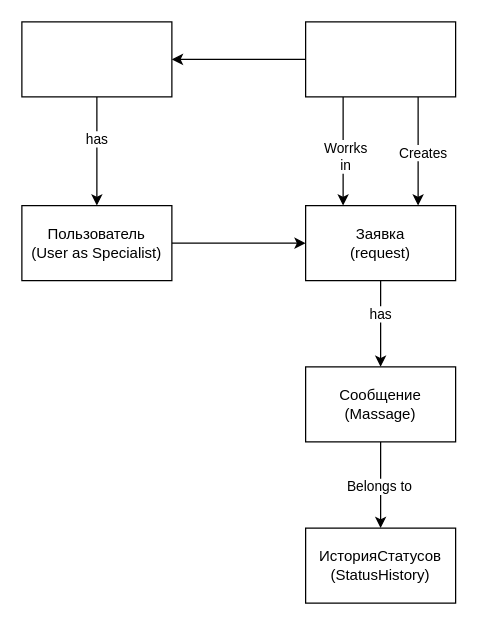
Image size: 478x625. Some labels were removed from this diagram. Here are the shapes that lost their labels. From the top down, the centre of each, then its label:
[96,59]: Подразделение (Departament)
[380,59]: Пользователь (User)
